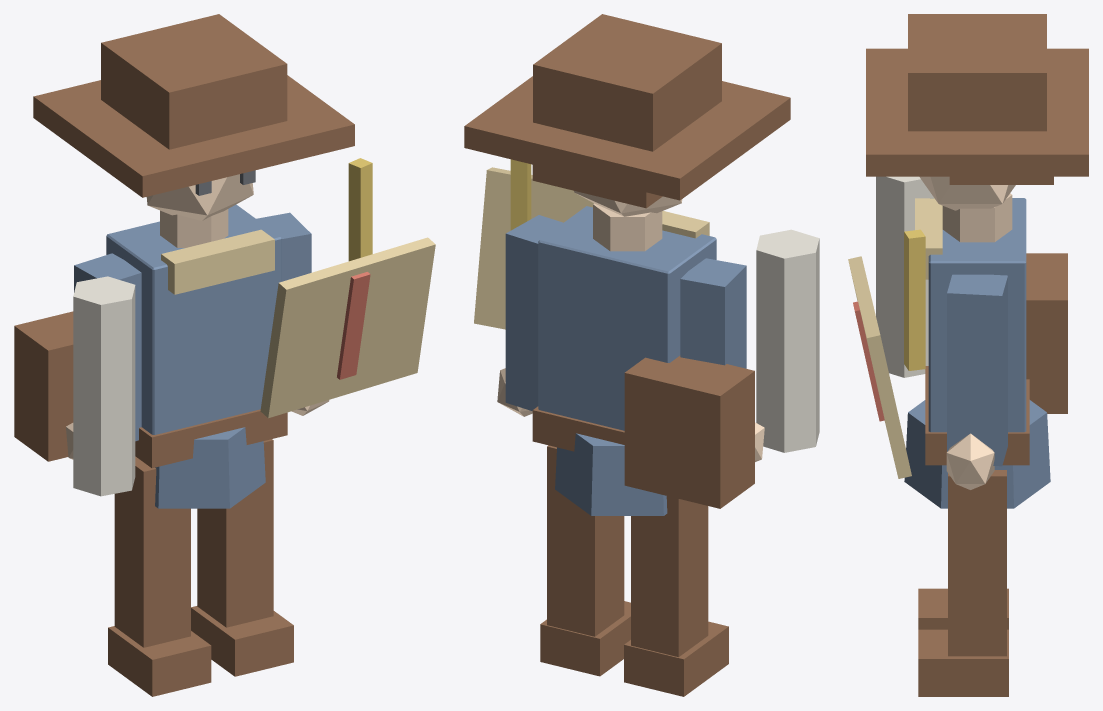
Rendered from npc_cartographer.glb.
The picture shows the model from 3 angles, left to right: view 1: azimuth 30°, elevation 25°; view 2: azimuth 150°, elevation 25°; view 3: azimuth 270°, elevation 25°; orthographic projection. The views are drawn at different scales.
Visible parts, largest first — view 1: torso.001; view 2: torso.001; view 3: torso.001.
Boxes of the visible parts, left/top/right/bottom form: torso.001: left=14, top=14, right=435, bottom=696; torso.001: left=464, top=14, right=819, bottom=696; torso.001: left=848, top=14, right=1088, bottom=696.
Size of the model in its own units: 1.15 by 1.96 by 0.6919.
